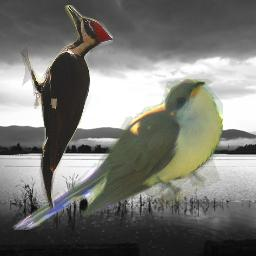Cuckoo: (11, 79, 223, 230)
Woodpecker: (20, 5, 113, 209)
